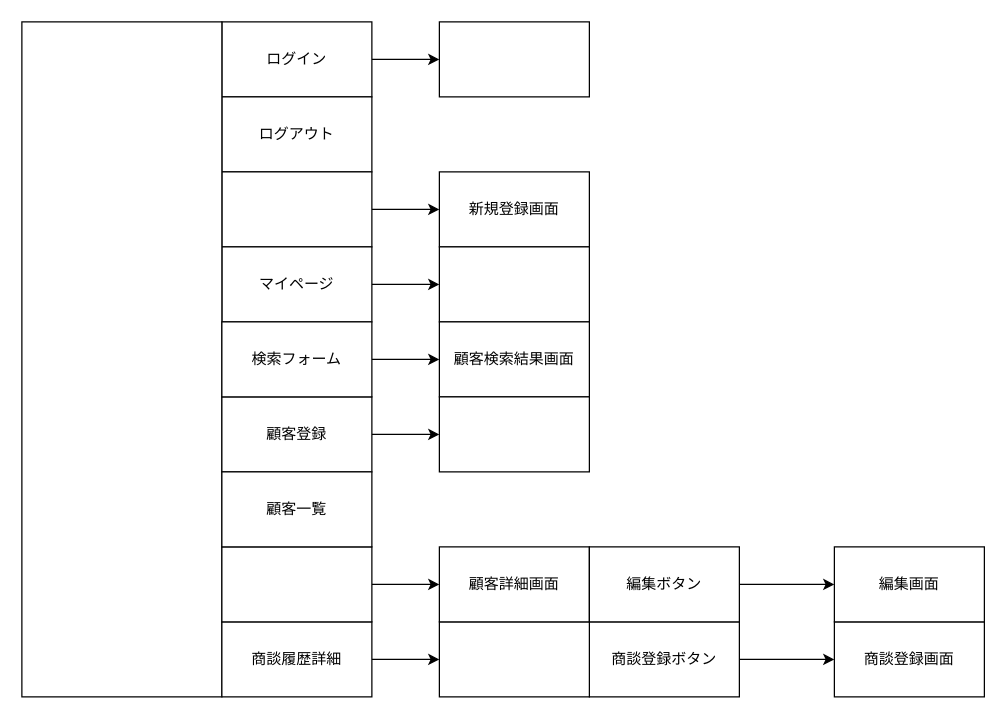
Some shapes in this 1006 by 719 pixel diagram are drawn without their labels. The shapes that lost their labels are listed below. From the top down, each one's centre as x and y in pixels, then its label:
point (513, 59): ログイン入力画面
point (296, 209): 新規登録
point (513, 284): ユーザー情報
point (121, 359): トップページ
point (513, 434): 顧客登録画面
point (296, 584): 顧客詳細
point (513, 659): 商談履歴一覧
